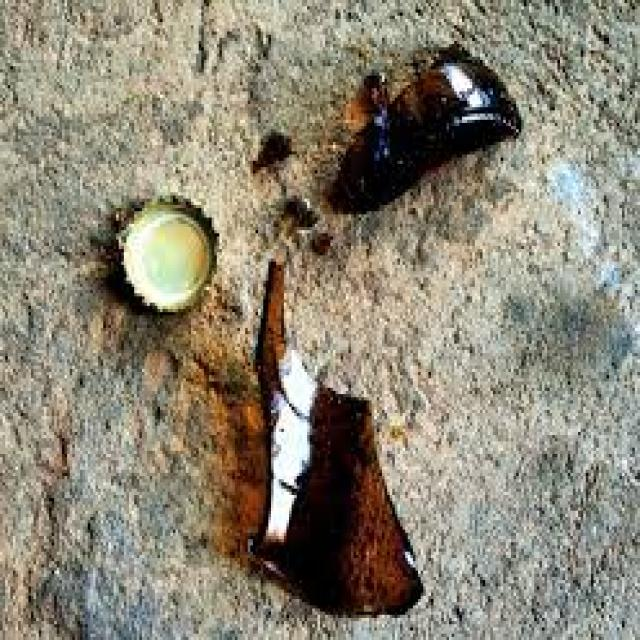glass: (235, 259, 423, 612), (325, 41, 519, 208), (251, 123, 295, 170), (276, 189, 312, 233), (364, 67, 387, 111), (313, 227, 331, 252)
metal: (111, 196, 217, 312)
